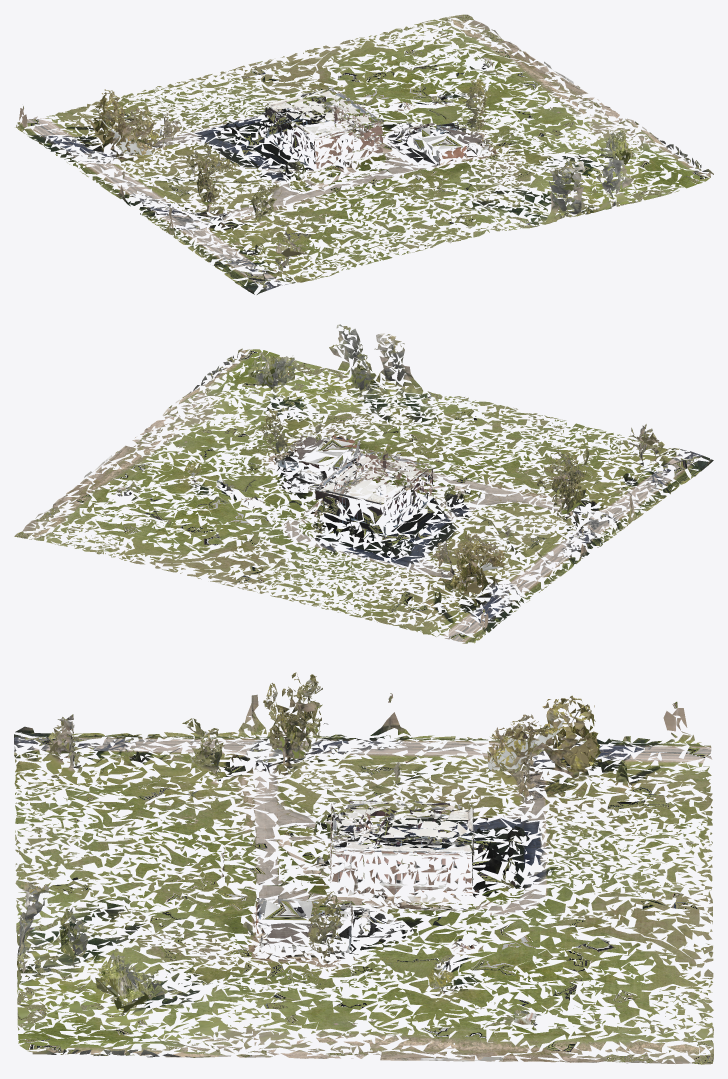
Rendered from old_school.glb.
3 views of the same model, one above another, from view 1: azimuth 30°, elevation 25°; view 2: azimuth 150°, elevation 25°; view 3: azimuth 270°, elevation 25° (orthographic). The views are drawn at different scales.
Size of the model in its own units: 162 by 23.68 by 147.
Materials: 10 (10 with a texture image).
